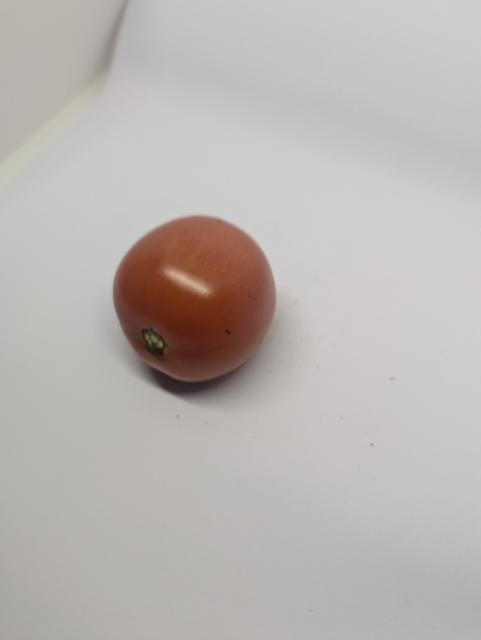red: (105, 211, 297, 398)
